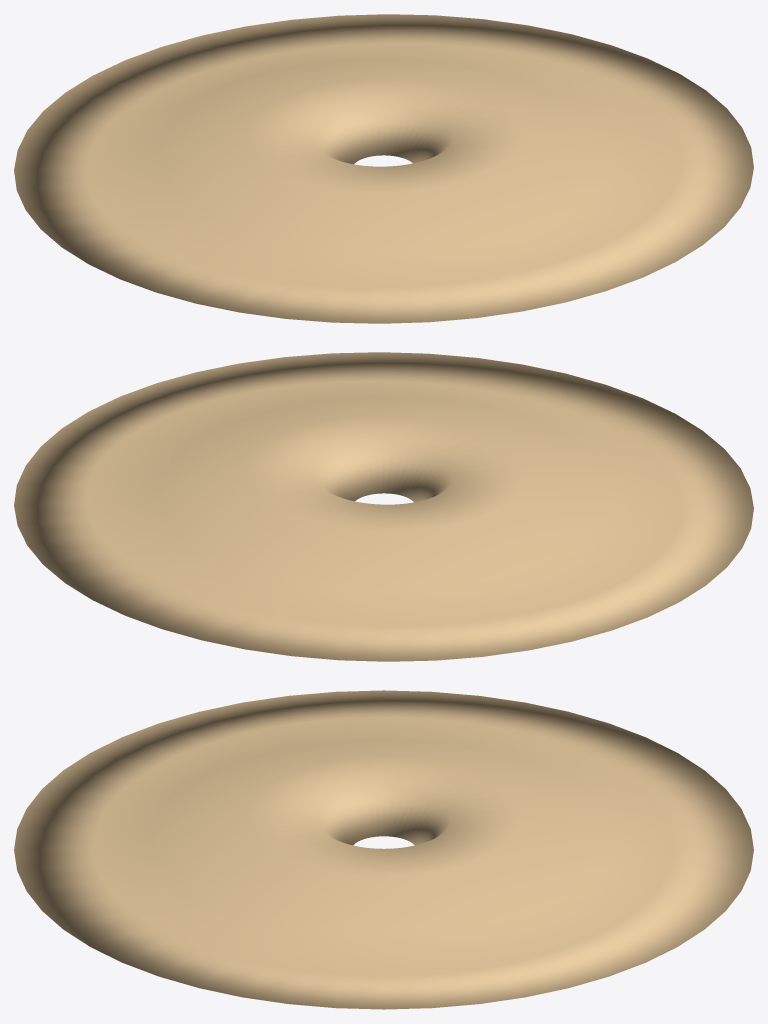
Rendered from Mound-Shrimp.fbx.
The picture shows the model from 3 angles, top to bottom: view 1: azimuth 30°, elevation 25°; view 2: azimuth 150°, elevation 25°; view 3: azimuth 270°, elevation 25°; orthographic projection.
Visible parts, largest first — view 1: Torus.001; view 2: Torus.001; view 3: Torus.001.
Boxes of the visible parts, x1,y1,x2,y2 form: Torus.001: [14, 14, 753, 323]; Torus.001: [14, 352, 753, 661]; Torus.001: [14, 690, 753, 1009].
Bounding box in the file's own units: 71.56 × 3.53 × 70.13.
